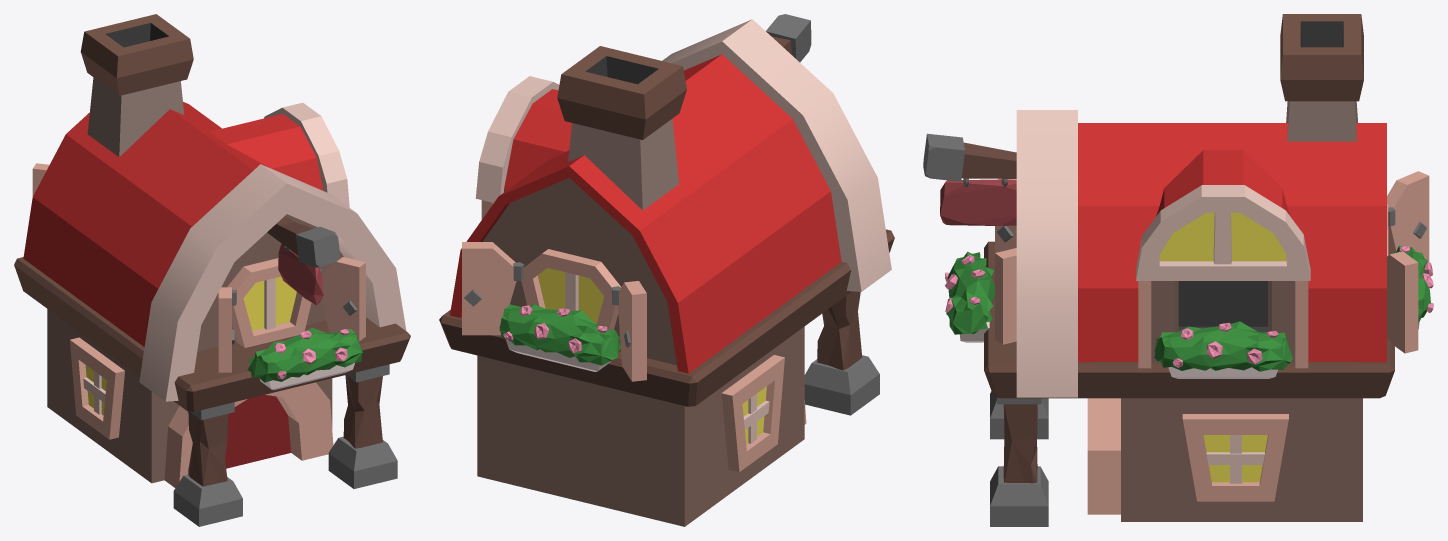
The model's file is building_010.fbx.
The picture shows the model from 3 angles, left to right: view 1: azimuth 30°, elevation 25°; view 2: azimuth 150°, elevation 25°; view 3: azimuth 270°, elevation 25°; orthographic projection. The views are drawn at different scales.
Visible parts, largest first — view 1: building.010; view 2: building.010; view 3: building.010.
Part boxes in pixels (x1=…): building.010: x1=14, y1=14, x2=410, y2=526; building.010: x1=439, y1=14, x2=894, y2=526; building.010: x1=923, y1=14, x2=1433, y2=526.
Bounding box in the file's own units: 846 × 1149 × 1247.
Materials: 1 (1 with a texture image).
